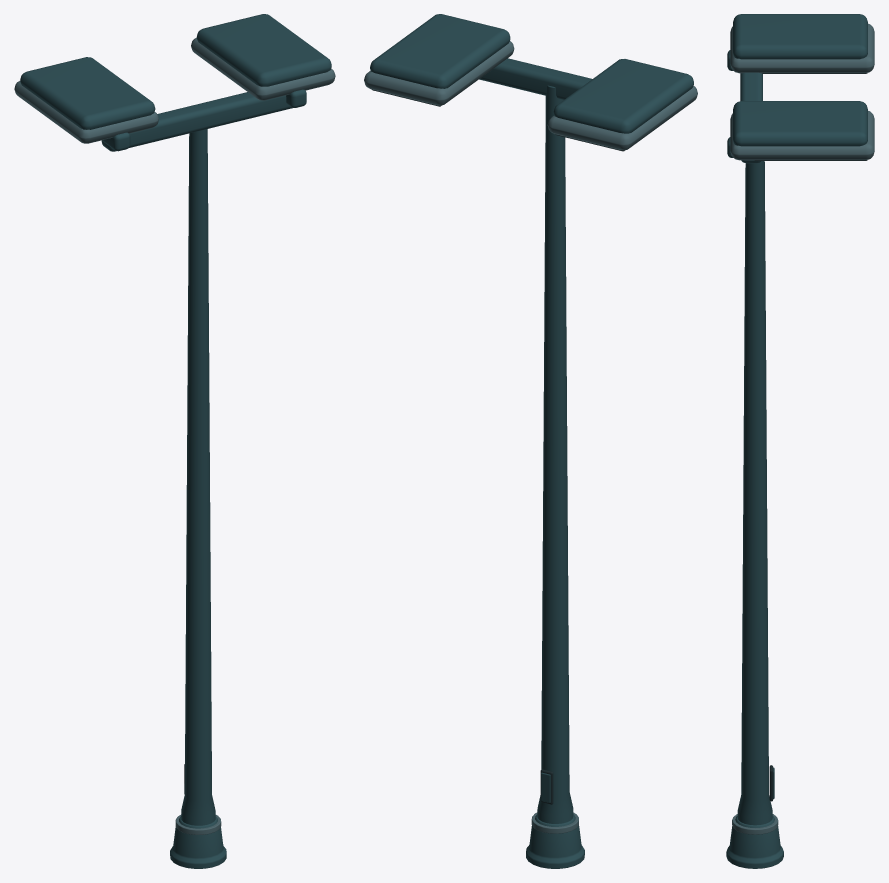
The model's file is city_lights_03_warm.glb.
3 renders of one model, left to right at view 1: azimuth 30°, elevation 25°; view 2: azimuth 150°, elevation 25°; view 3: azimuth 270°, elevation 25°, orthographic. The views are drawn at different scales.
Visible parts, largest first — view 1: CityLights03_Mesh; view 2: CityLights03_Mesh; view 3: CityLights03_Mesh.
Part boxes in pixels (x1,y1,x2,y2): CityLights03_Mesh: (14,14,335,868); CityLights03_Mesh: (364,14,697,868); CityLights03_Mesh: (726,14,874,868).
Bounding box in the file's own units: 2.9 × 8.4 × 1.44.
